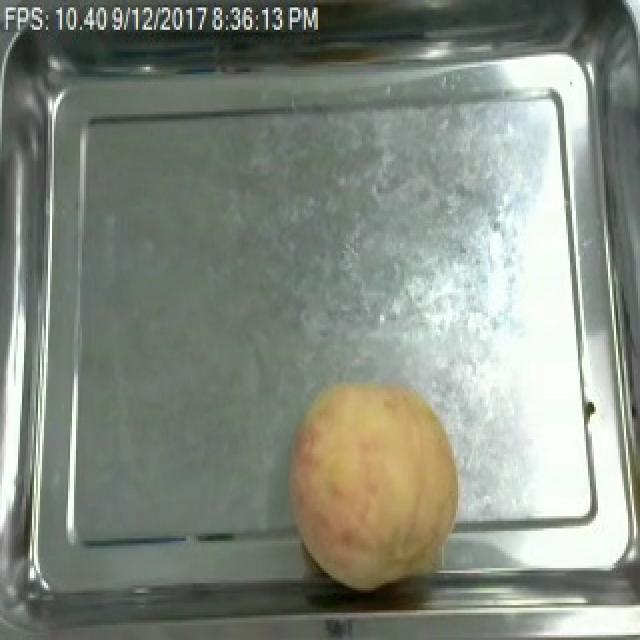Fruit: (278, 370, 474, 600)
